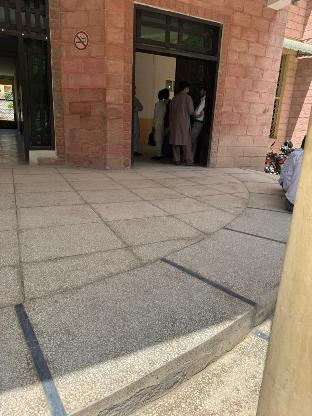door: (125, 0, 226, 175)
person: (165, 80, 198, 167)
